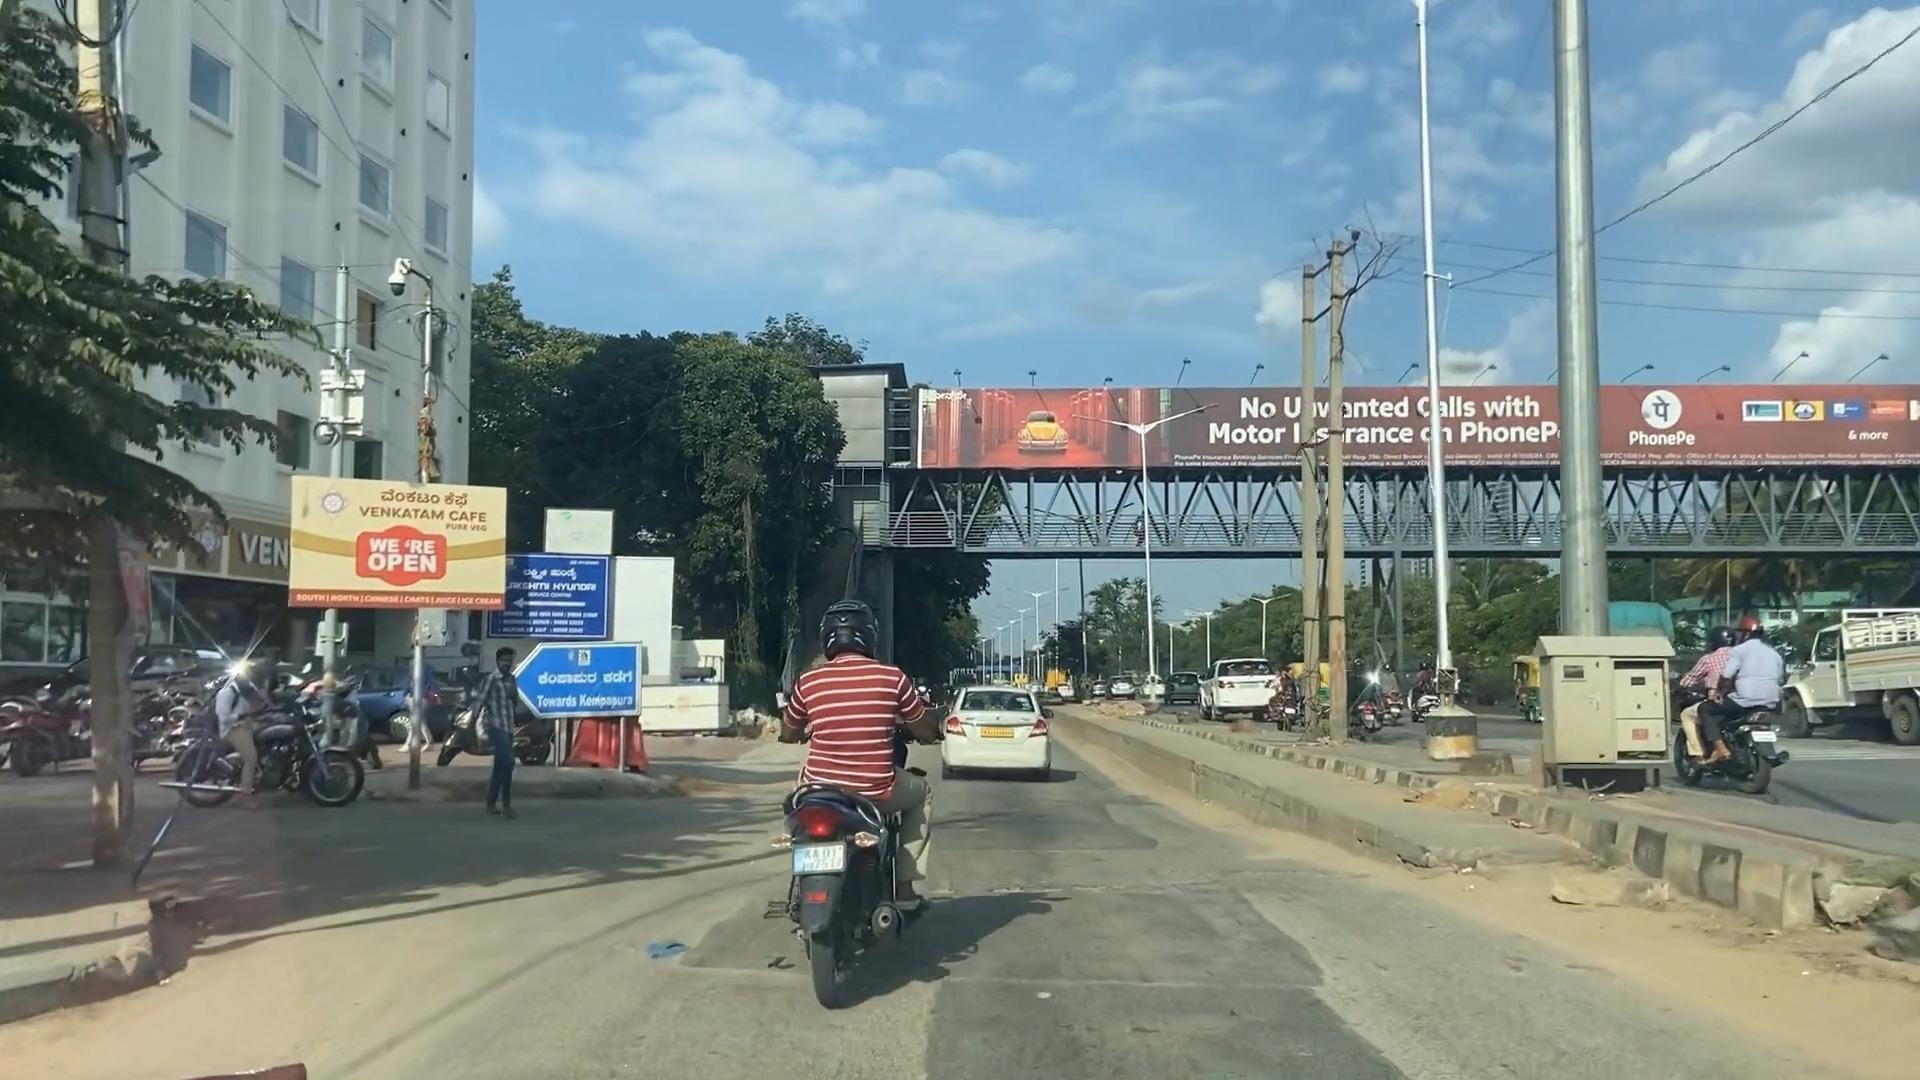LMV: (770, 599, 916, 1017), (945, 683, 1047, 783)
UnsurfacedRoad: (930, 858, 1382, 1005)
